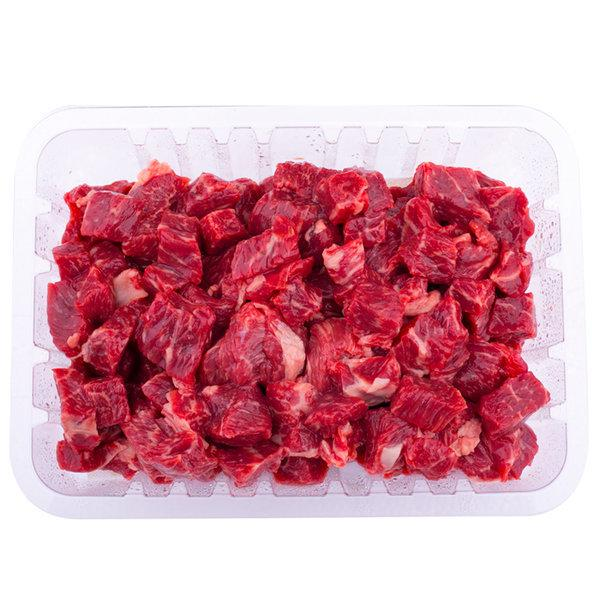beef: (69, 177, 488, 436)
